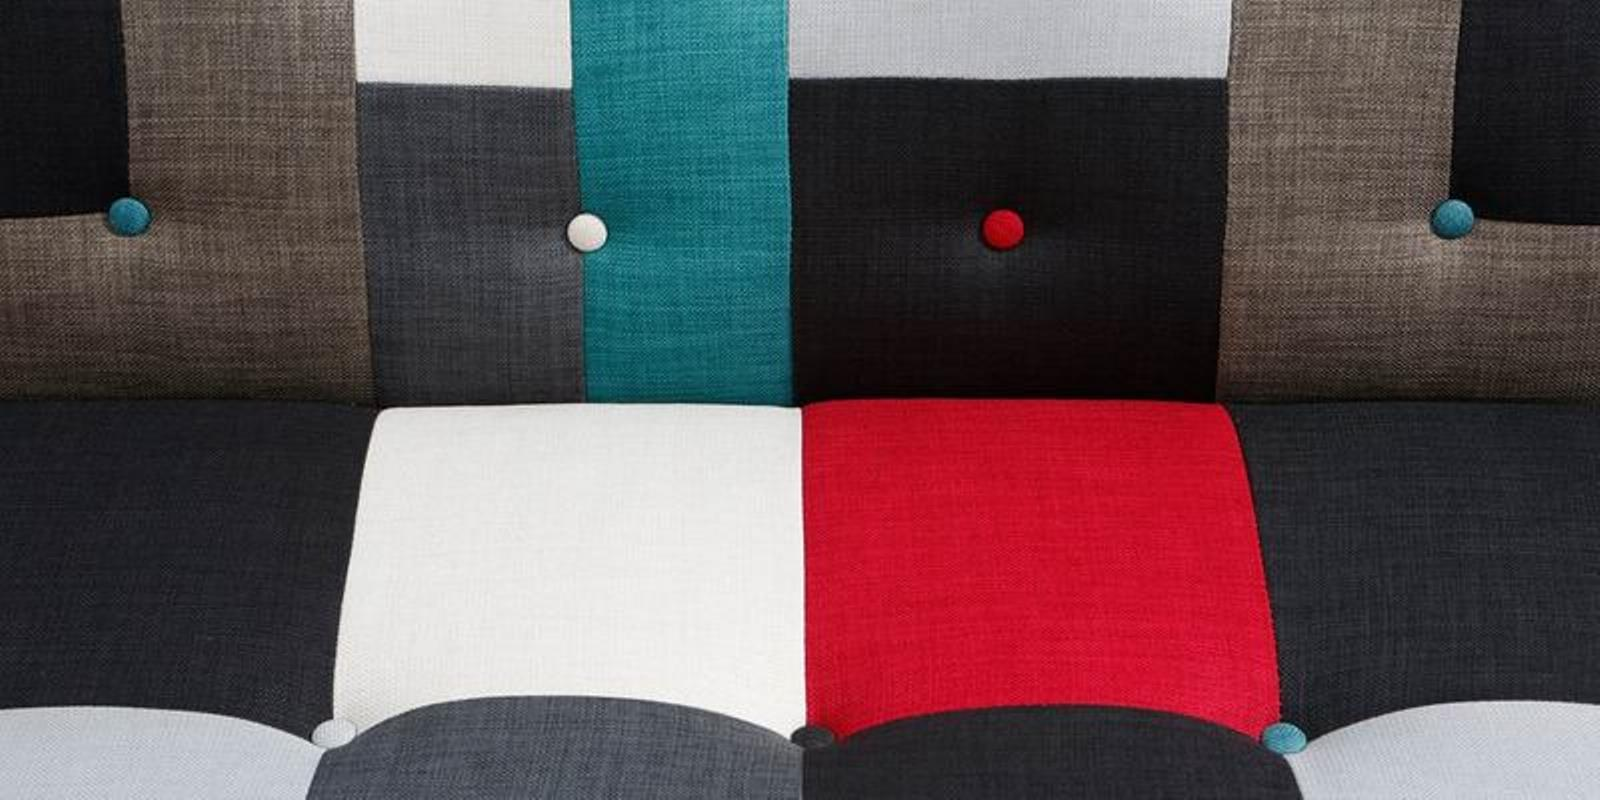Frida Three Seater Sofa in Red Multi Colour by CasaCraft: (2, 1, 1599, 789)
